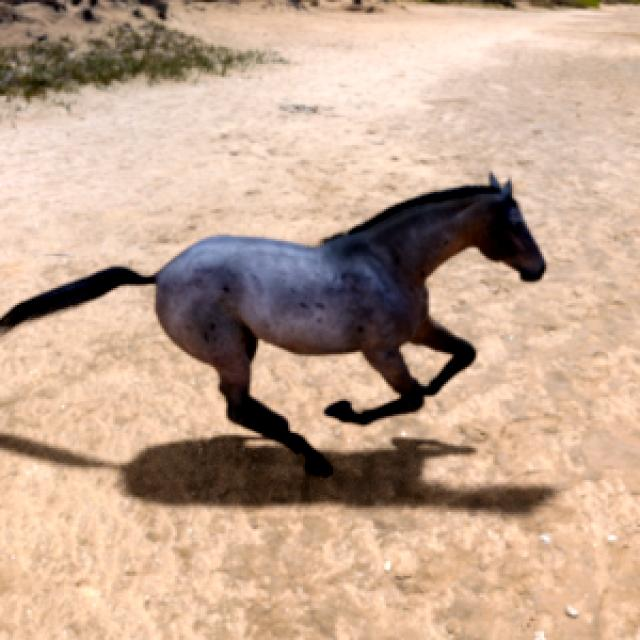horse: (0, 175, 545, 476)
